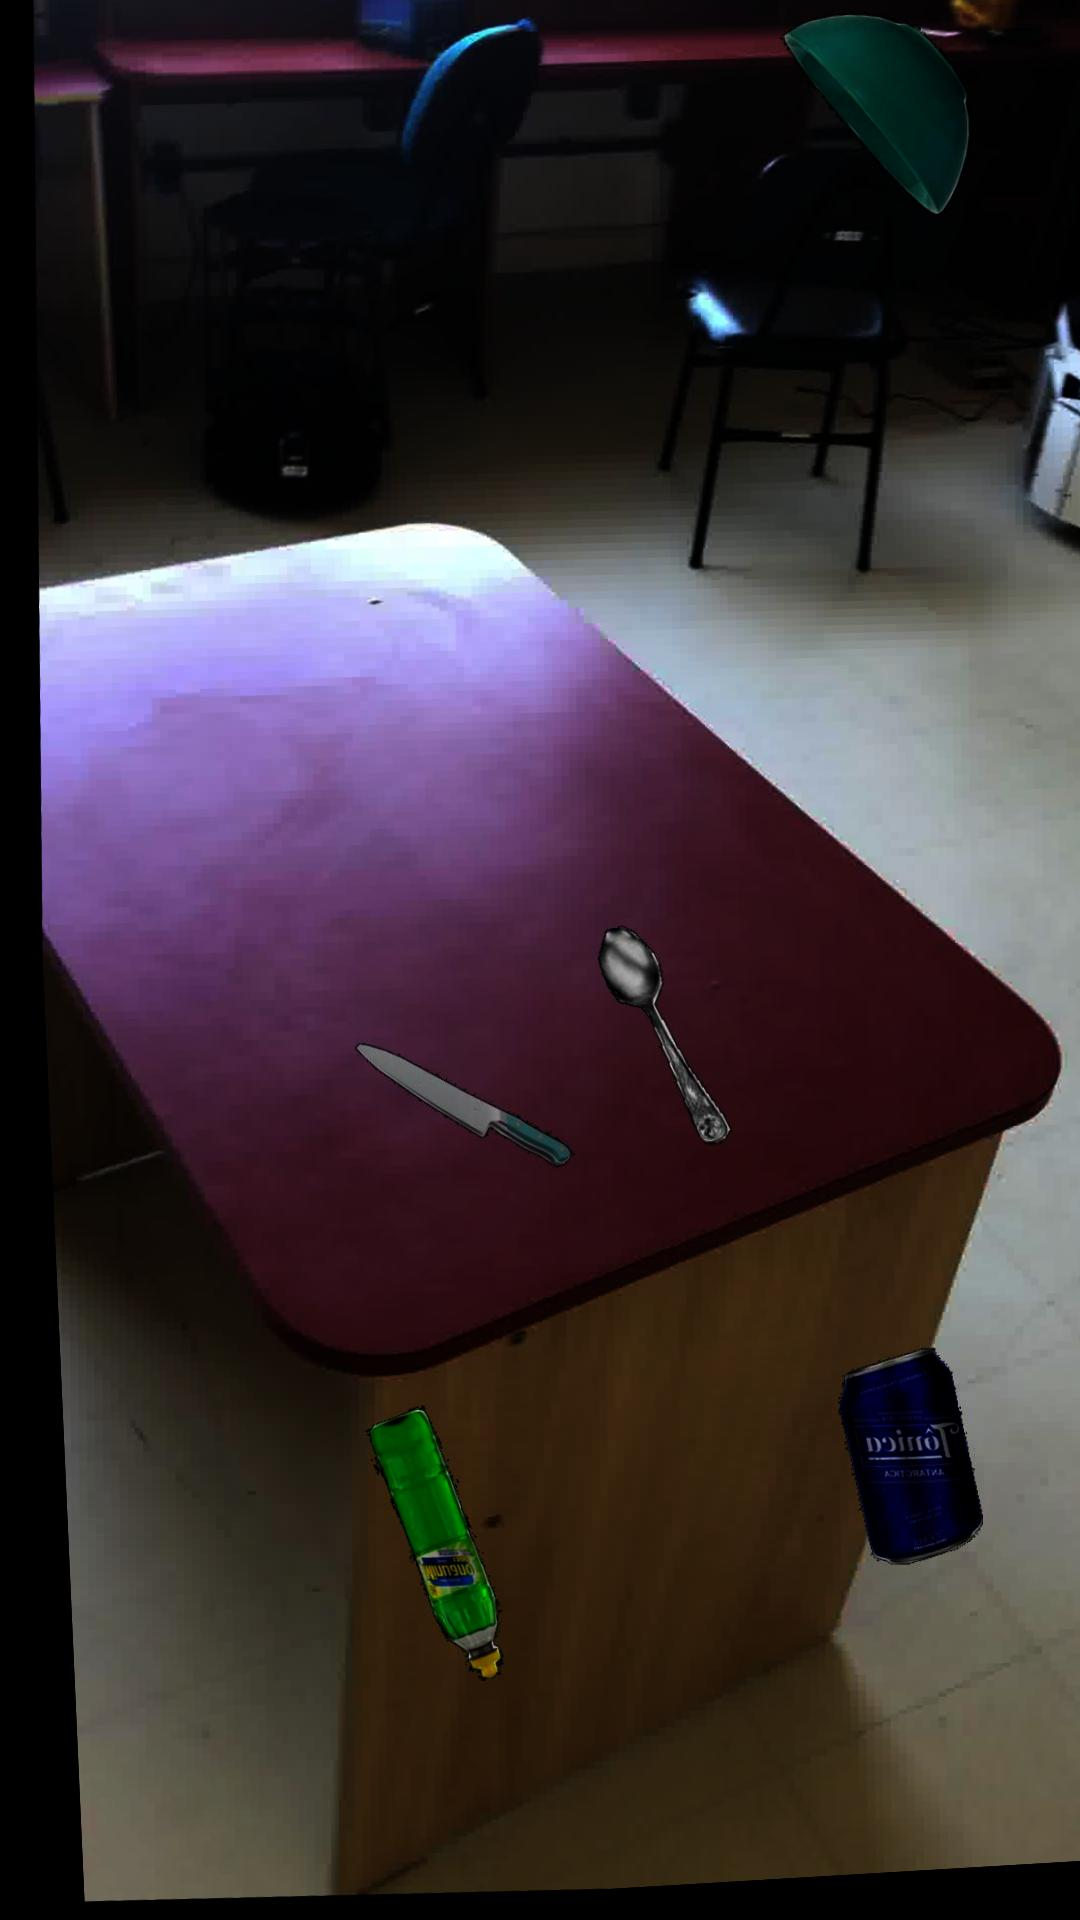bowl: (781, 22, 968, 225)
cleaner: (353, 1408, 485, 1684)
knife: (344, 1046, 560, 1172)
spoon: (587, 932, 719, 1151)
tonic: (824, 1358, 967, 1573)
